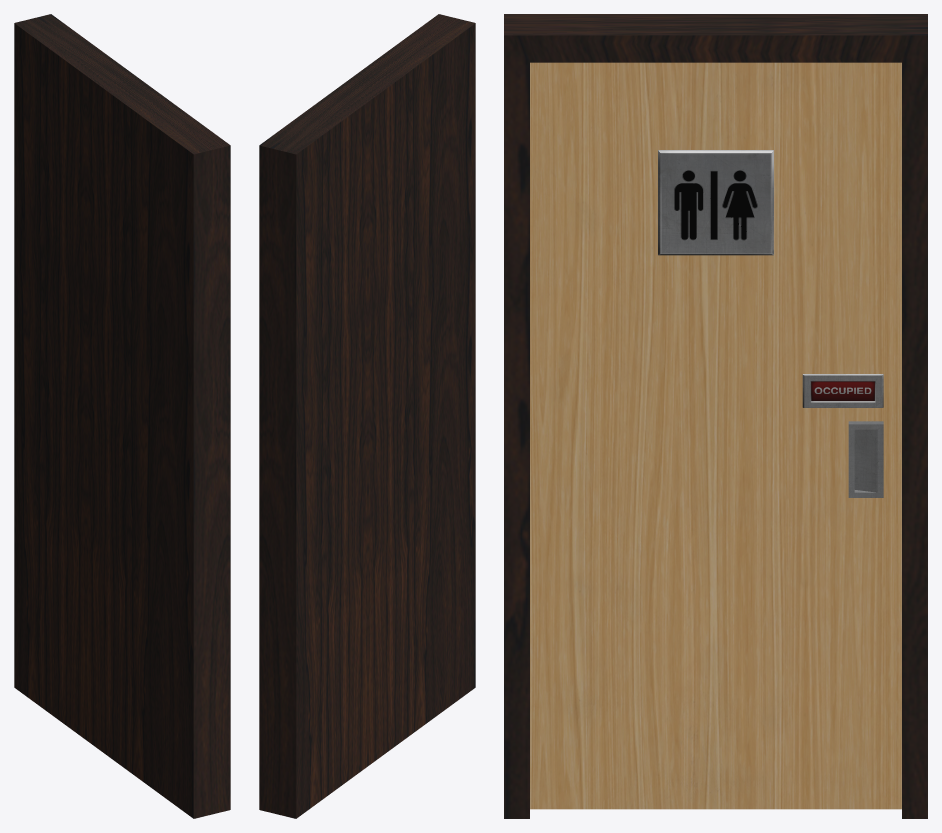
Rendered from ToiletDoor02.FBX.
3 renders of one model, left to right at view 1: azimuth 30°, elevation 25°; view 2: azimuth 150°, elevation 25°; view 3: azimuth 270°, elevation 25°, orthographic. The views are drawn at different scales.
Visible parts, largest first — view 1: ToiletDoor01; view 2: ToiletDoor01; view 3: ToiletDoor01.
Part boxes in pixels (left/top/right/bottom): ToiletDoor01: left=14, top=14, right=230, bottom=818; ToiletDoor01: left=259, top=14, right=475, bottom=818; ToiletDoor01: left=504, top=14, right=927, bottom=818.
Size of the model in its own units: 15.22 by 261 by 128.
